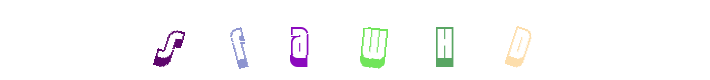A: (244, 0, 324, 80)
D: (428, 0, 508, 80)
H: (362, 0, 442, 80)
R: (208, 0, 288, 80)
S: (128, 0, 208, 80)
W: (315, 0, 395, 80)
